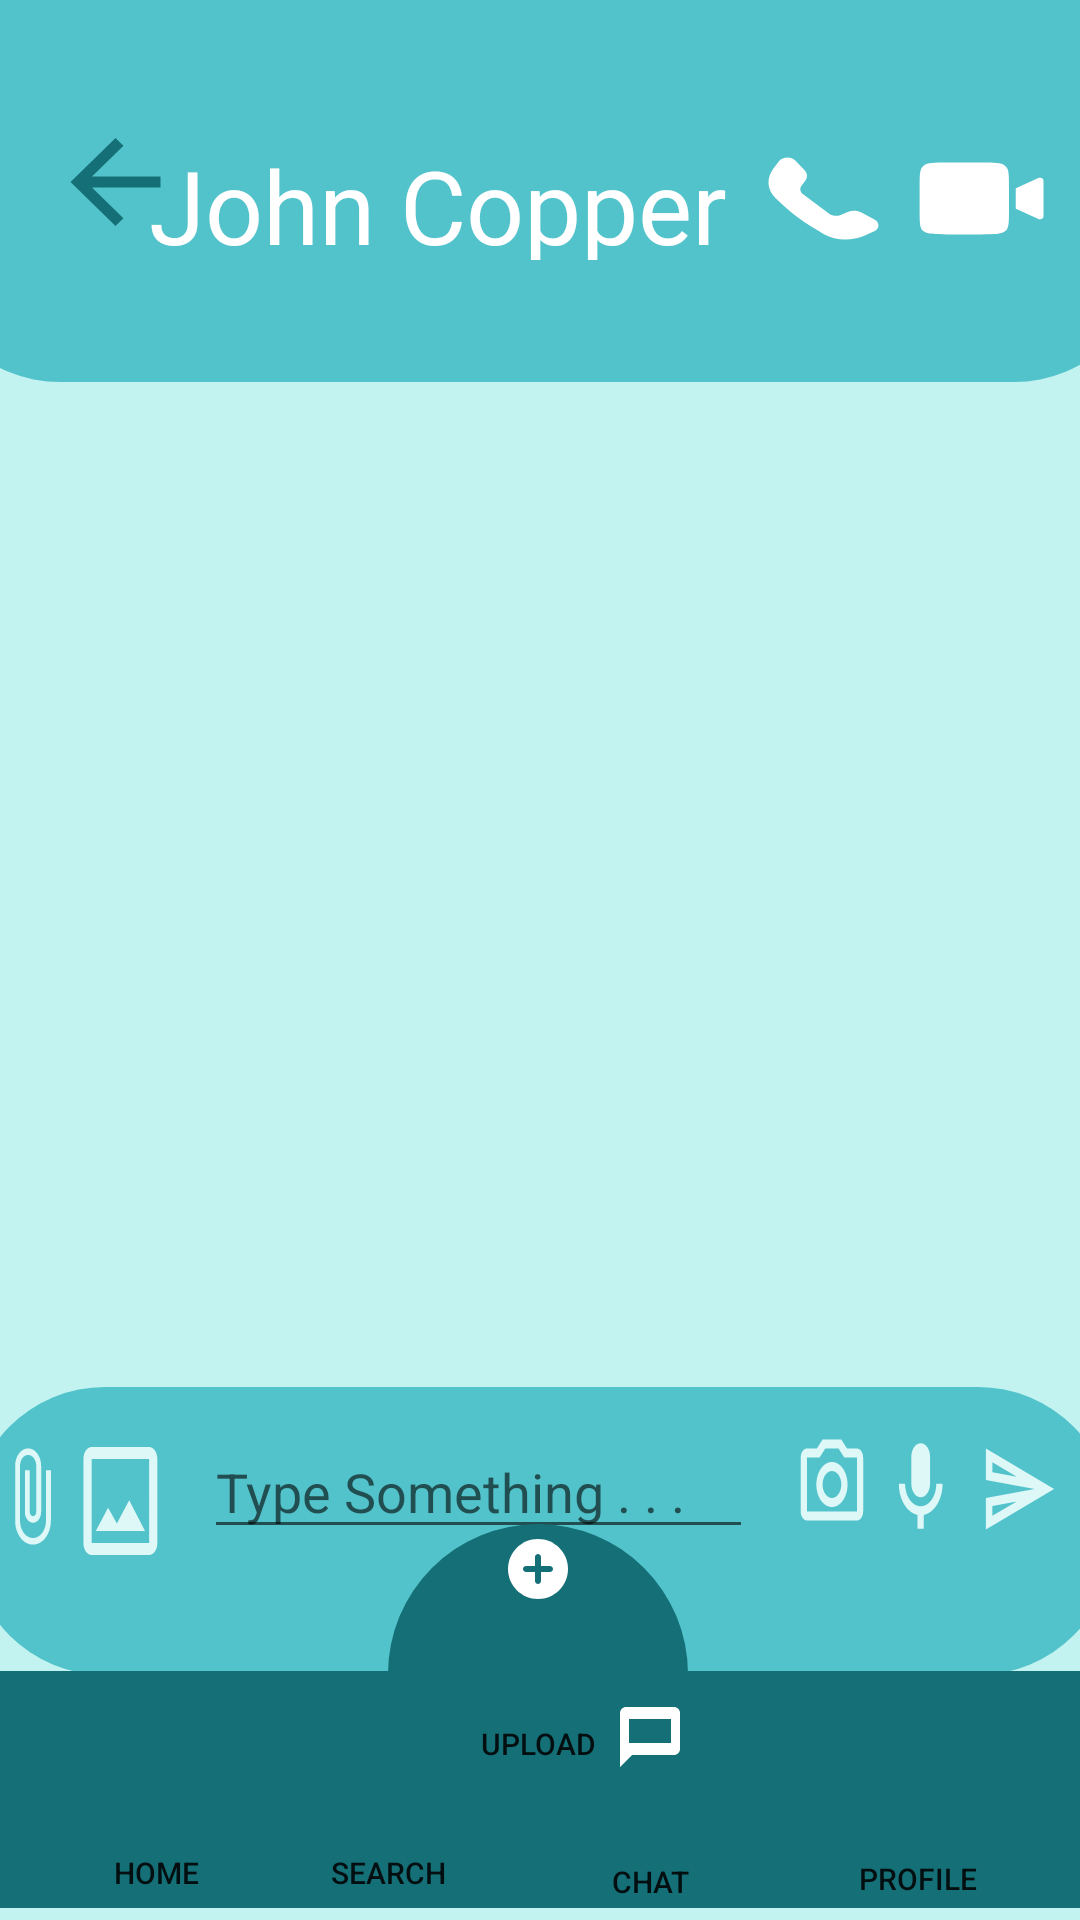

Icon click points for this 1080×1920 phone screenshot, format [x,y]:
attach file: [33,1496]
backarrow: [116,182]
camera: [981,198], [832,1480]
mic: [921,1486]
phone: [823,198]
send: [1020,1489]
